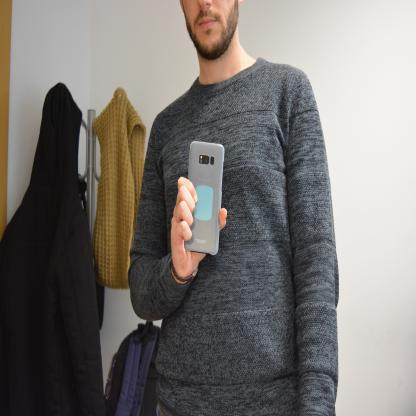smartphone: (184, 140, 224, 256)
